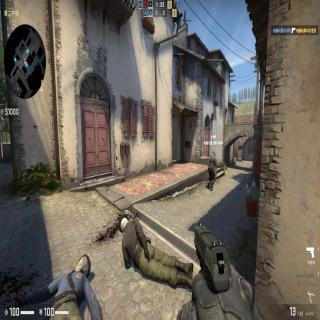CT-Body: (208, 150, 217, 192)
CT-Head: (212, 150, 216, 156)
